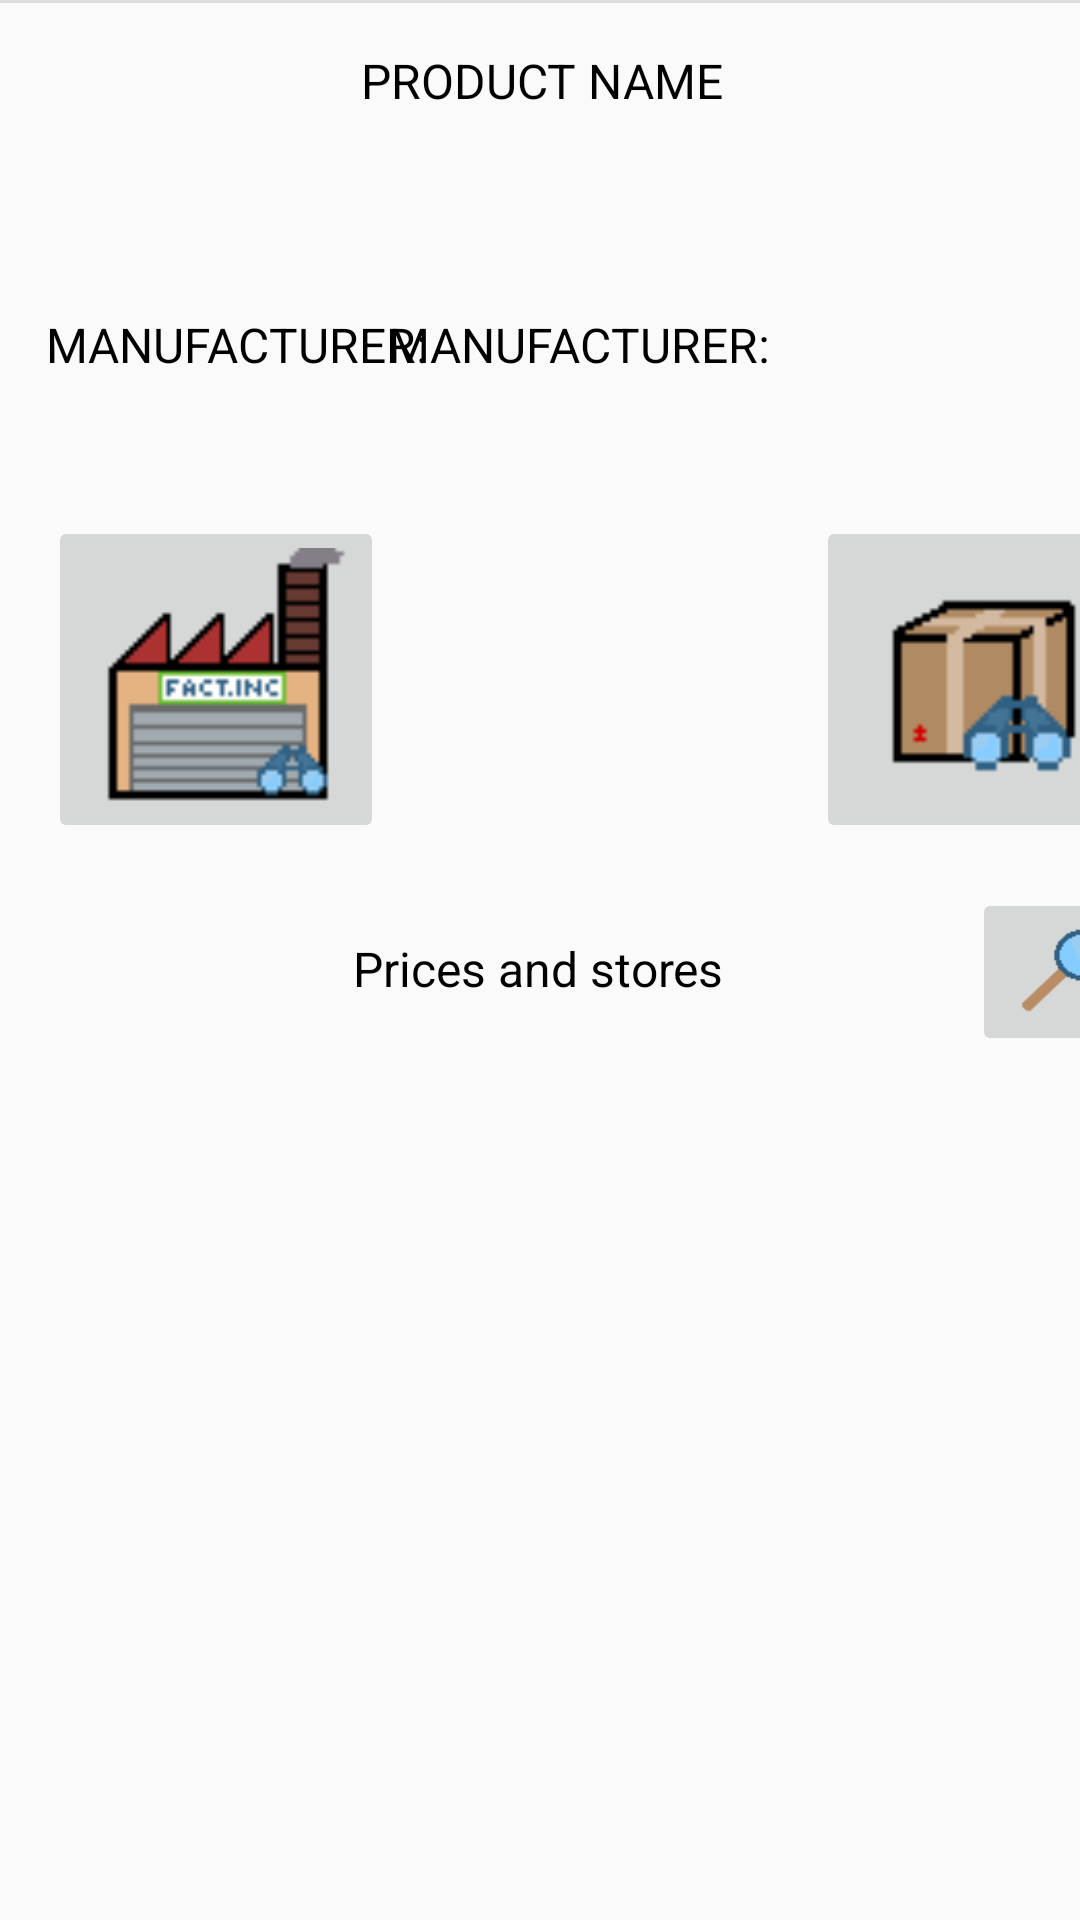

Icon bounding boxes for this 1080 x 1920 phone screenshot, format {"x1": x1, "y1": y1, "x2": x2, "y2": y2}:
filterfactory: {"x1": 60, "y1": 534, "x2": 372, "y2": 825}
